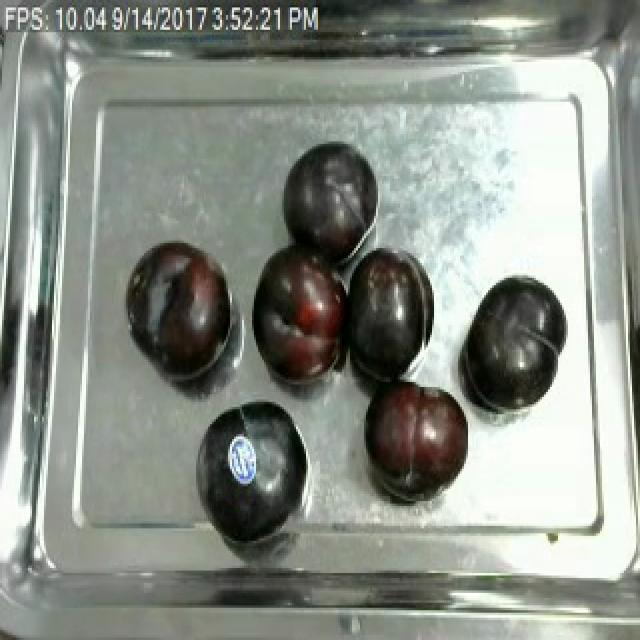Fruit: (194, 394, 312, 544), (244, 233, 352, 392), (458, 270, 568, 417), (130, 233, 234, 385), (338, 240, 438, 390), (356, 372, 474, 499), (278, 139, 378, 265)
